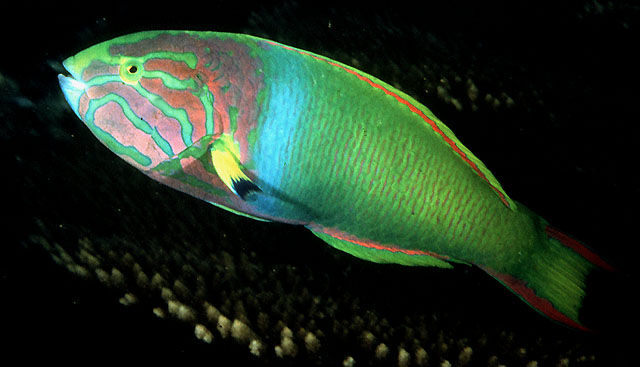fish: (57, 30, 599, 328)
